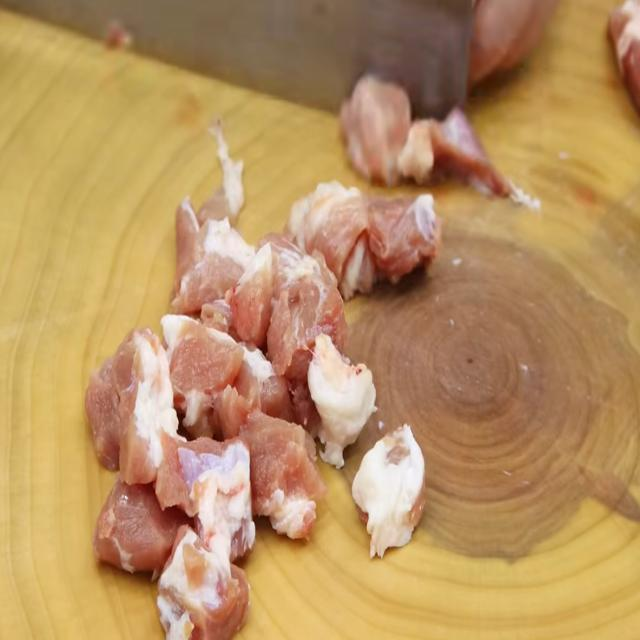Pork: (328, 62, 518, 189), (288, 181, 444, 297), (84, 327, 174, 470), (362, 417, 440, 559), (162, 523, 257, 634), (242, 407, 322, 534), (185, 437, 256, 558), (162, 196, 240, 298), (95, 477, 177, 568), (277, 266, 348, 368), (309, 336, 375, 439), (225, 342, 288, 429), (222, 240, 275, 328), (183, 321, 243, 394)
